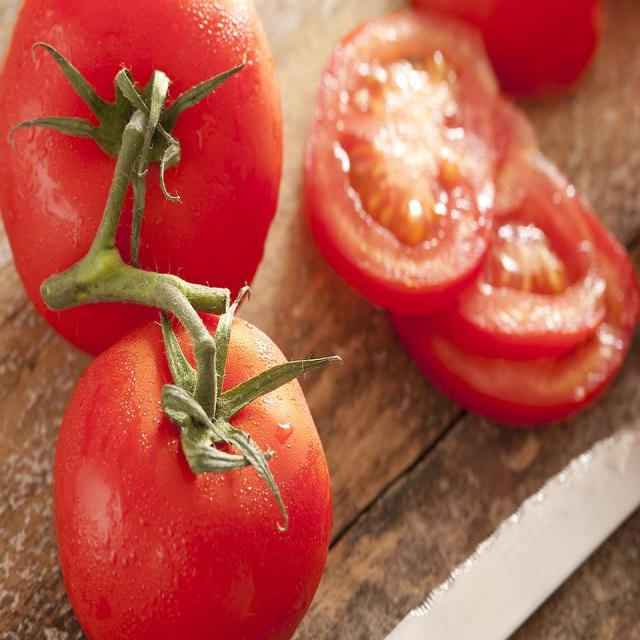kirmizi: (1, 0, 342, 640)
